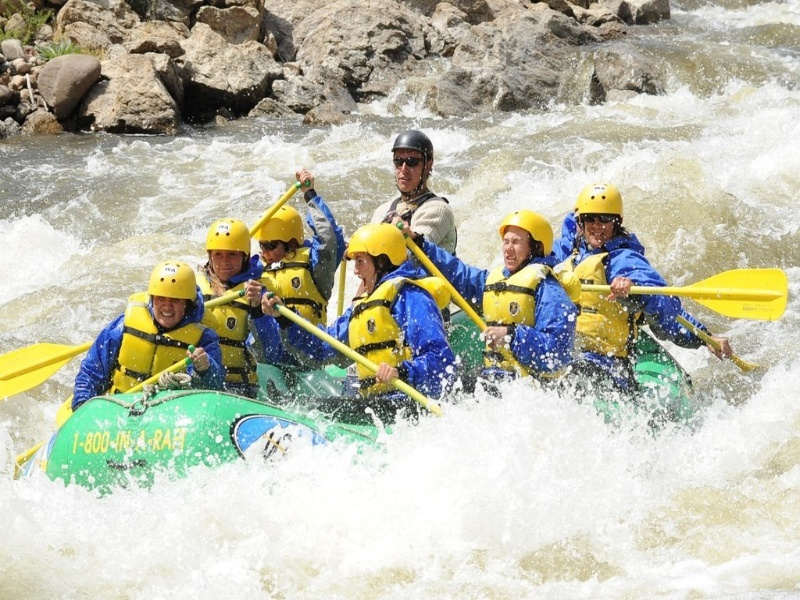baret: (497, 210, 556, 261), (345, 222, 409, 268), (148, 261, 199, 304), (257, 204, 305, 247), (204, 217, 251, 259), (575, 184, 623, 222), (391, 130, 433, 160)
